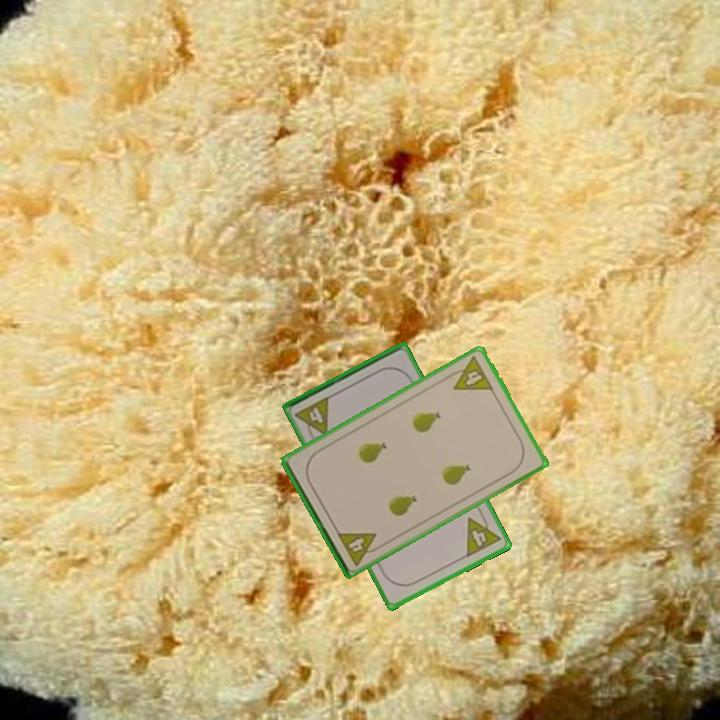4p: (463, 508, 504, 560), (333, 528, 385, 569), (443, 353, 496, 393), (292, 393, 333, 443)
